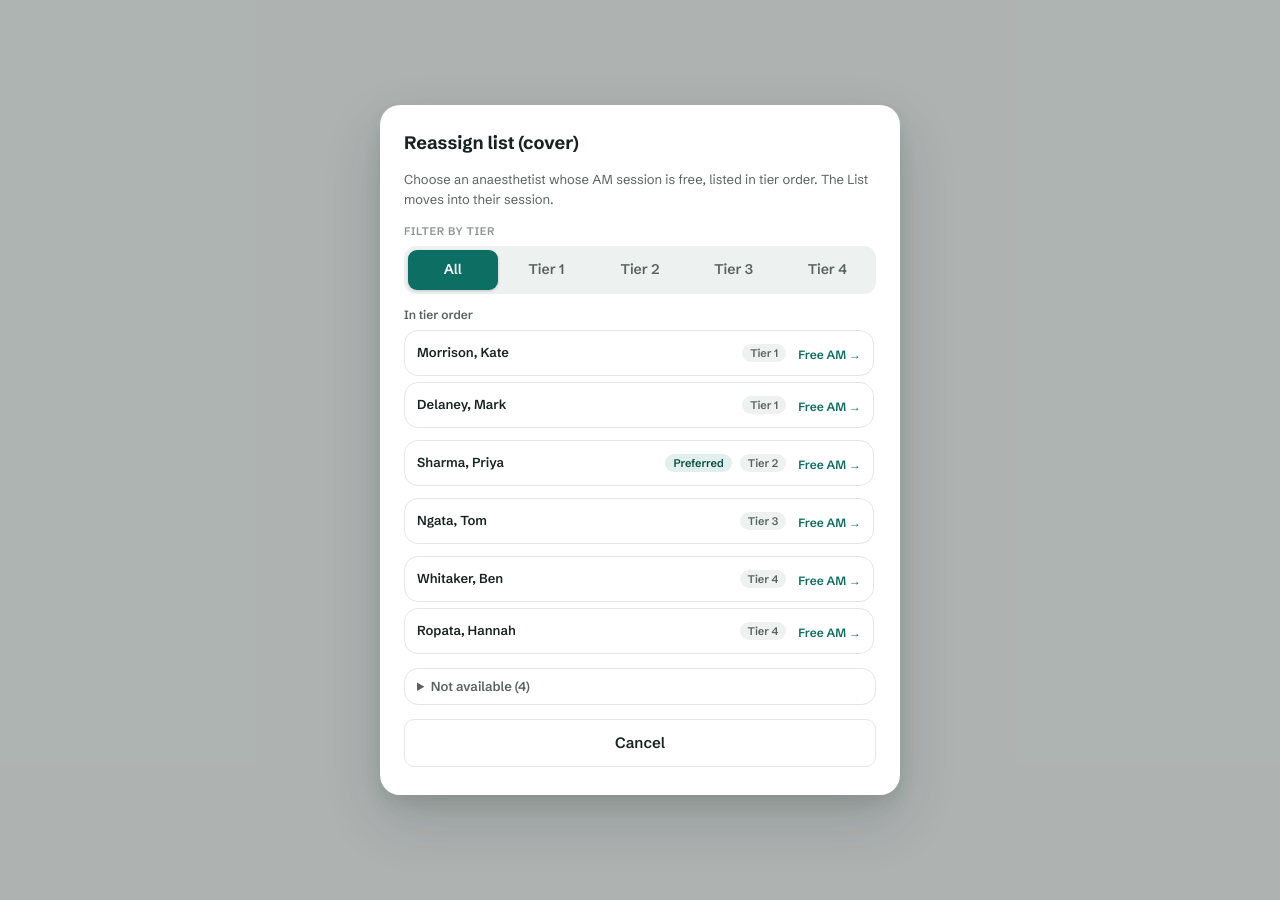
Test: ReassignListFlow › lists the free candidates in tier order, Sharma with a Preferred pill and no warning (S2 Beat 3)
The width and height of the screenshot is (1280, 900).
Click the button "Sharma, Priya Preferred Tier 2 Free AM →".
click(461, 462)  # box [404, 440, 874, 486]
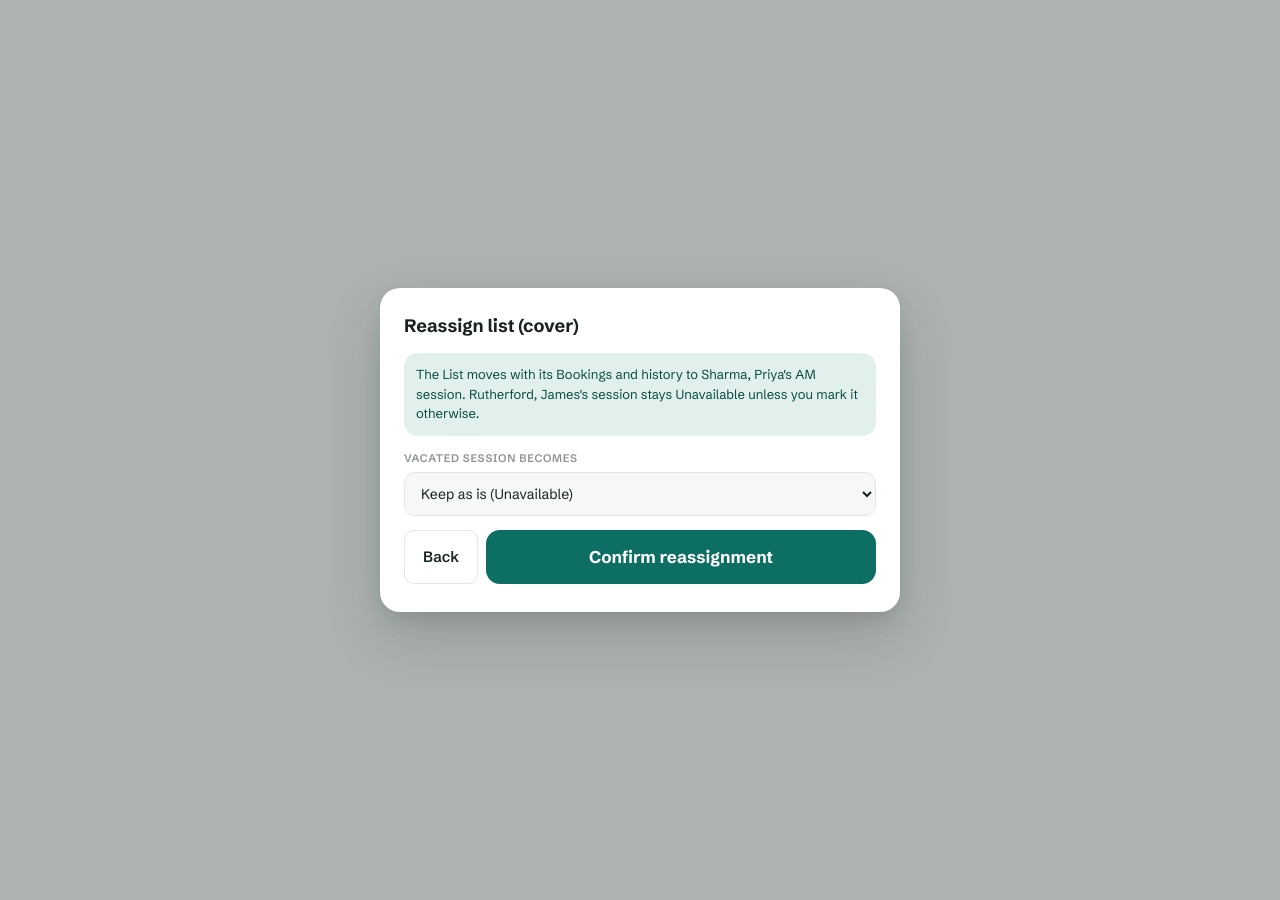
Check: the button "Confirm reassignment" is shown, box [486, 530, 876, 584]
